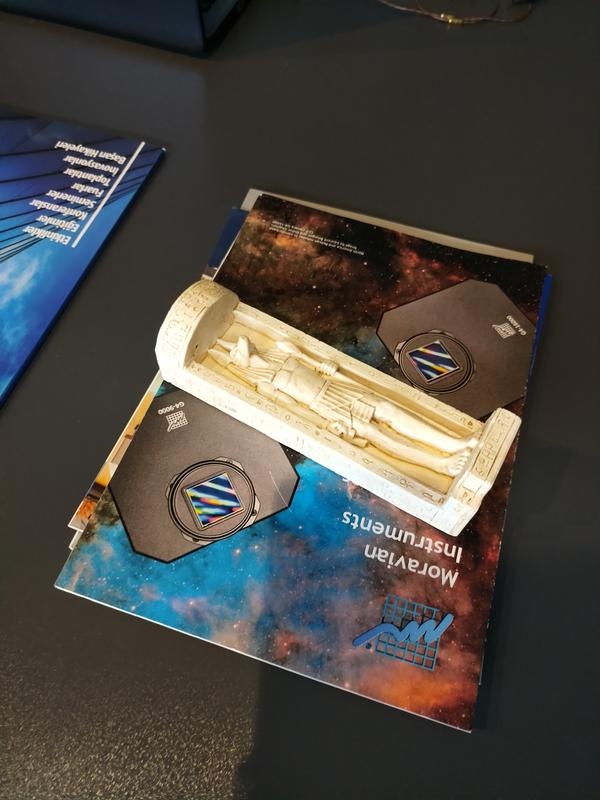heykel: (140, 273, 530, 541)
